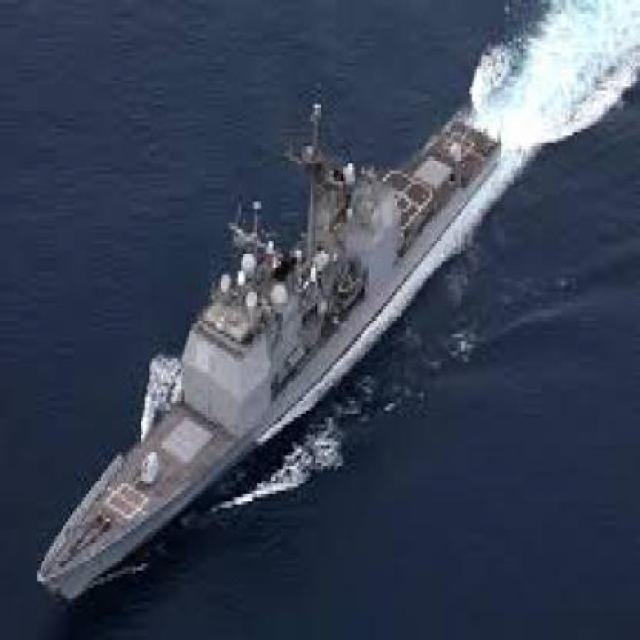warship2: (33, 70, 515, 624)
